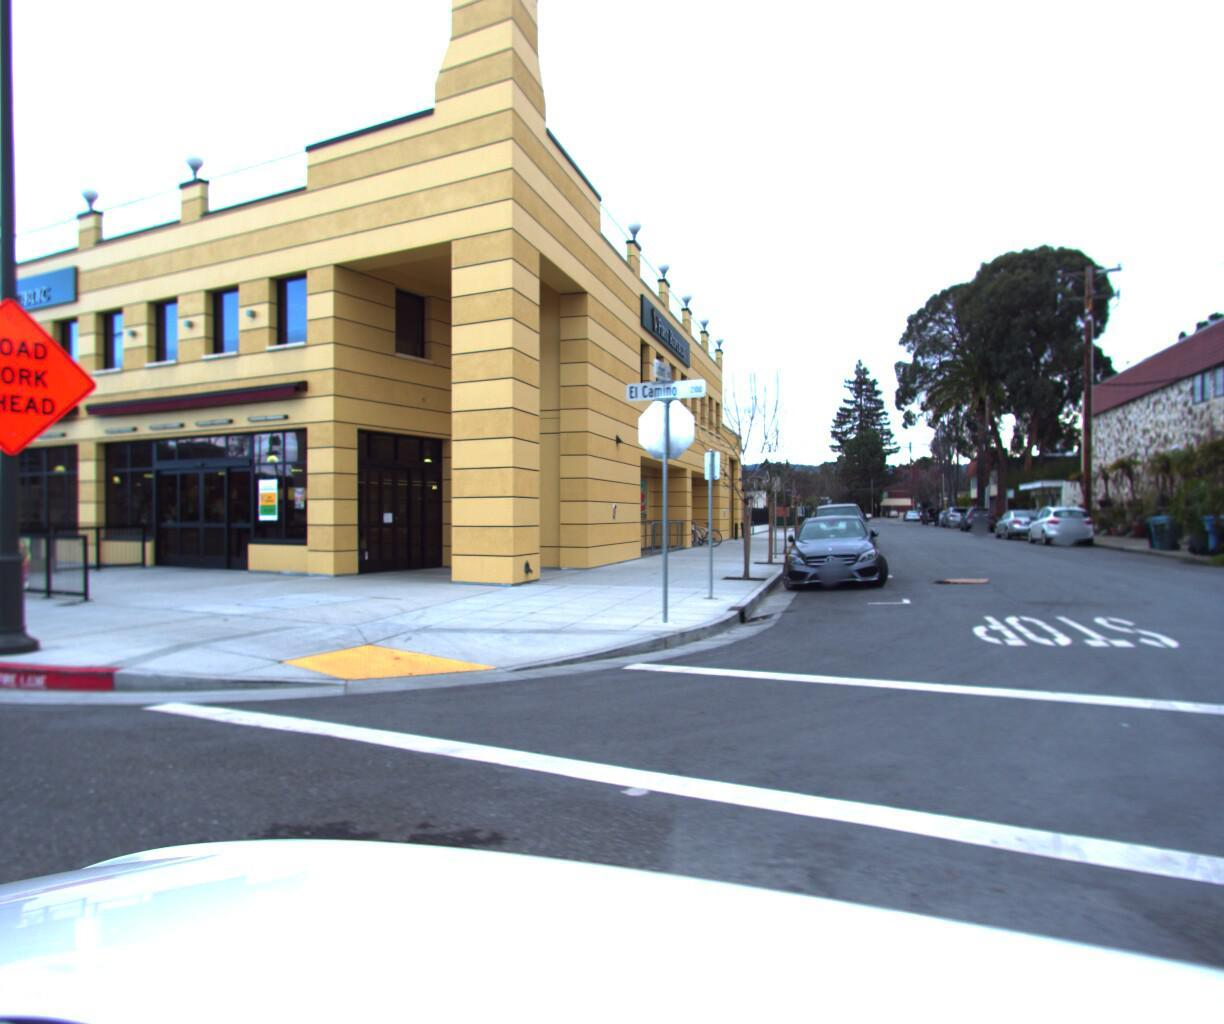bicycle: (685, 517, 725, 545)
car: (778, 507, 878, 590), (806, 495, 870, 554), (1026, 501, 1097, 543), (991, 505, 1052, 536), (956, 505, 997, 528), (939, 502, 972, 525), (922, 504, 953, 526)
